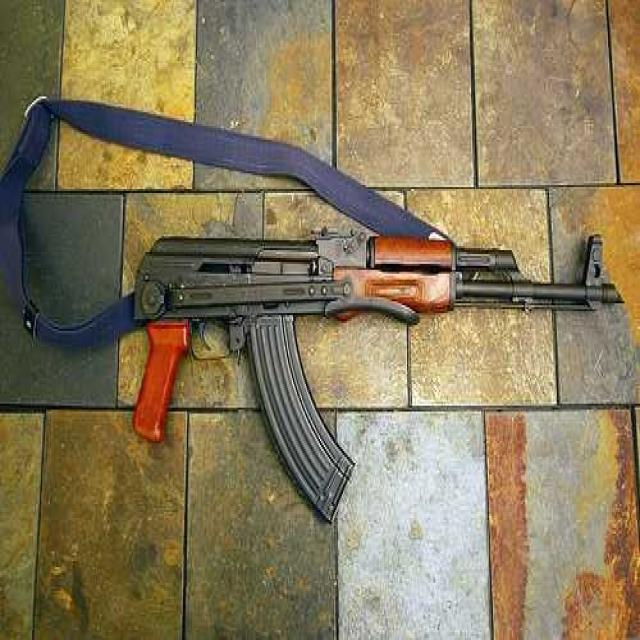MacGun: (132, 220, 619, 541)
